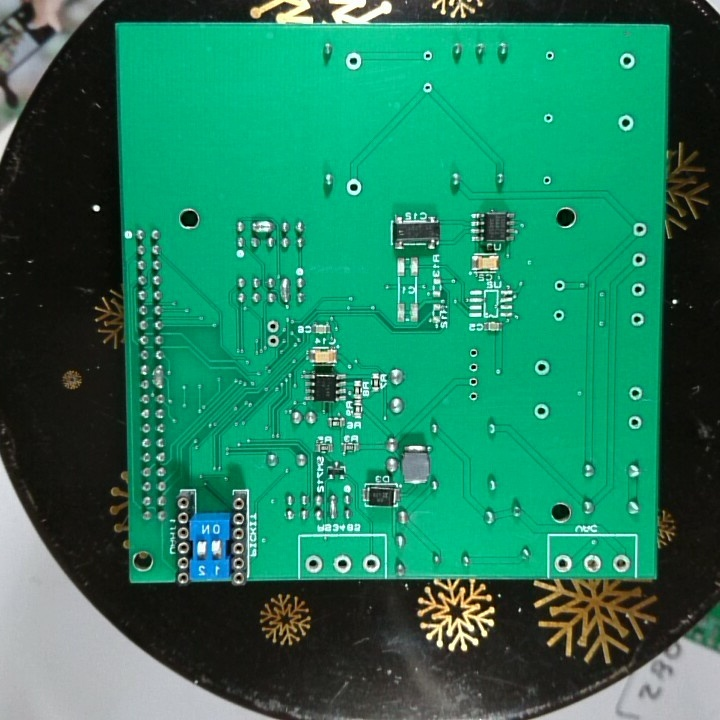F: (580, 552, 605, 575), (531, 399, 553, 423), (615, 111, 637, 135), (331, 554, 355, 575), (531, 356, 553, 378), (553, 552, 574, 575), (304, 553, 325, 576), (343, 176, 366, 197), (618, 49, 638, 72), (361, 553, 382, 574), (612, 552, 631, 575), (631, 219, 651, 239), (629, 250, 649, 270), (625, 413, 644, 433), (628, 383, 646, 404), (343, 52, 362, 71), (629, 280, 648, 298), (628, 310, 647, 328), (550, 306, 566, 325), (419, 49, 436, 66), (542, 47, 558, 65), (466, 372, 482, 389), (265, 319, 282, 335), (466, 388, 481, 406), (420, 80, 434, 98), (553, 278, 568, 294), (265, 334, 281, 349), (541, 110, 556, 126), (467, 344, 480, 360), (540, 173, 554, 187), (468, 361, 481, 375)
P: (249, 217, 276, 237), (326, 491, 340, 522), (151, 362, 167, 389), (277, 275, 291, 304)
